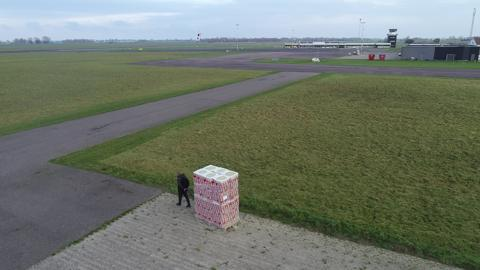RockwoolPallet: (192, 164, 241, 230)
